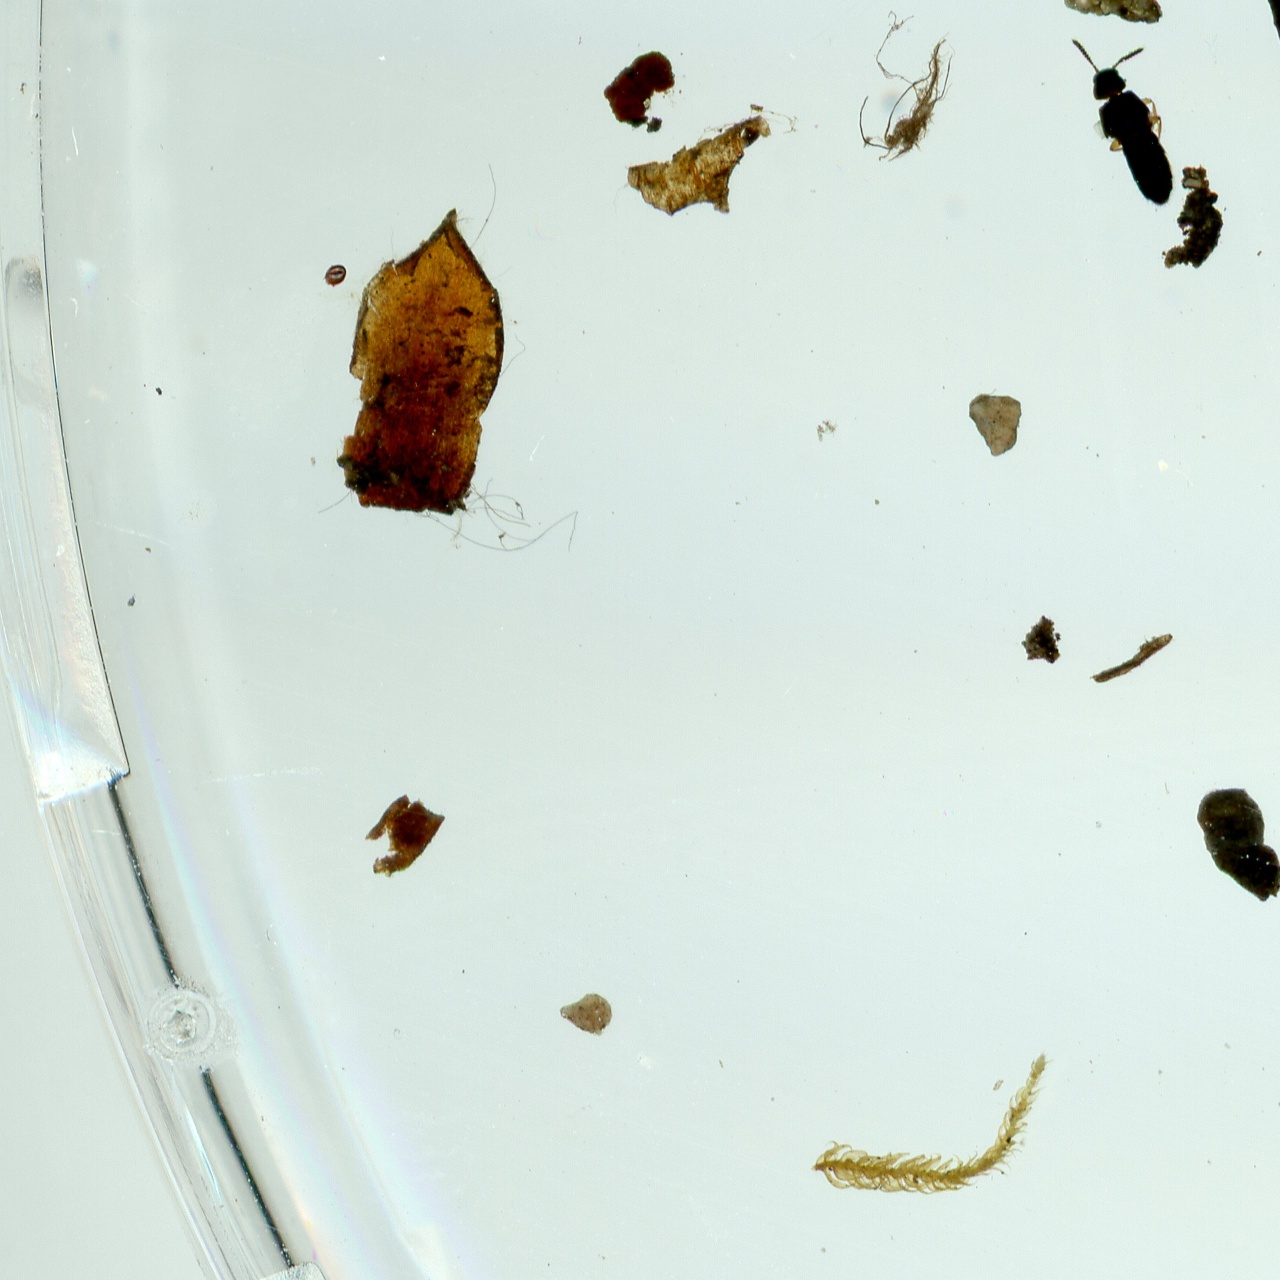arthropod: (1051, 11, 1204, 231), (320, 260, 347, 290)
